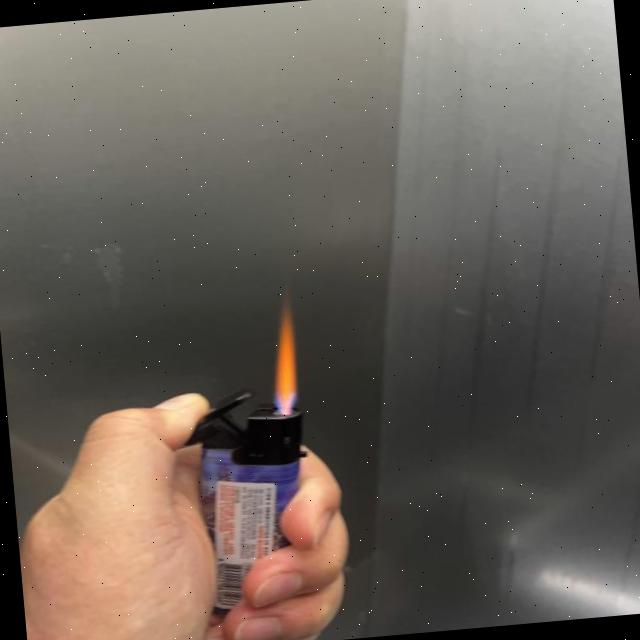fire: (261, 298, 301, 409)
